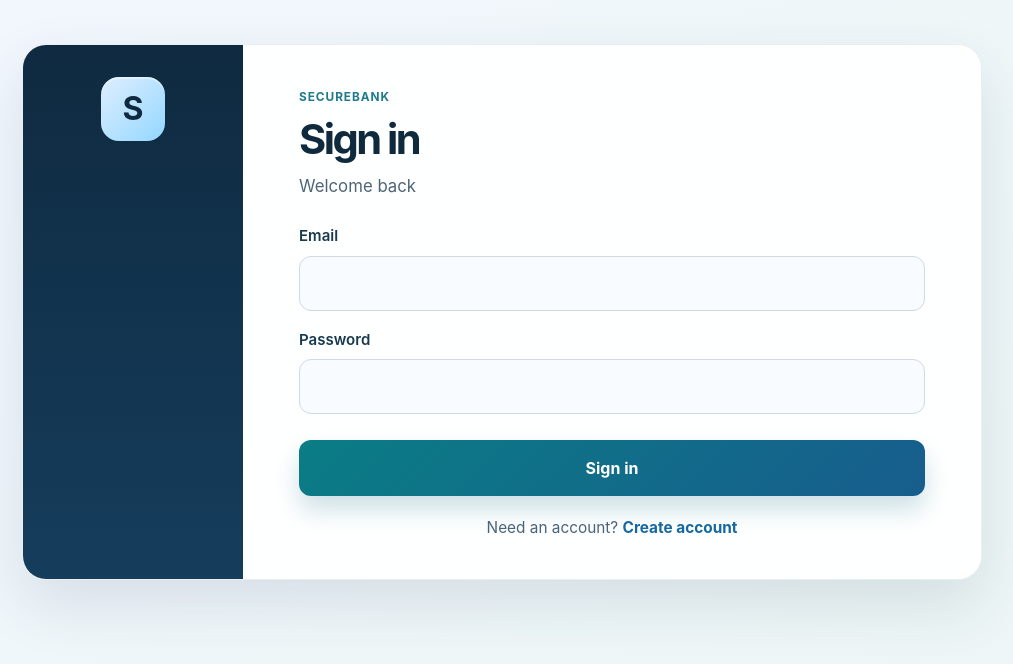
Test: Signup screen › shows an authentication error when sign in fails
Step 1. Type "jane.doe@example.com" into the field labelled "Email" → coordinates (612, 283), box [299,256,925,311]
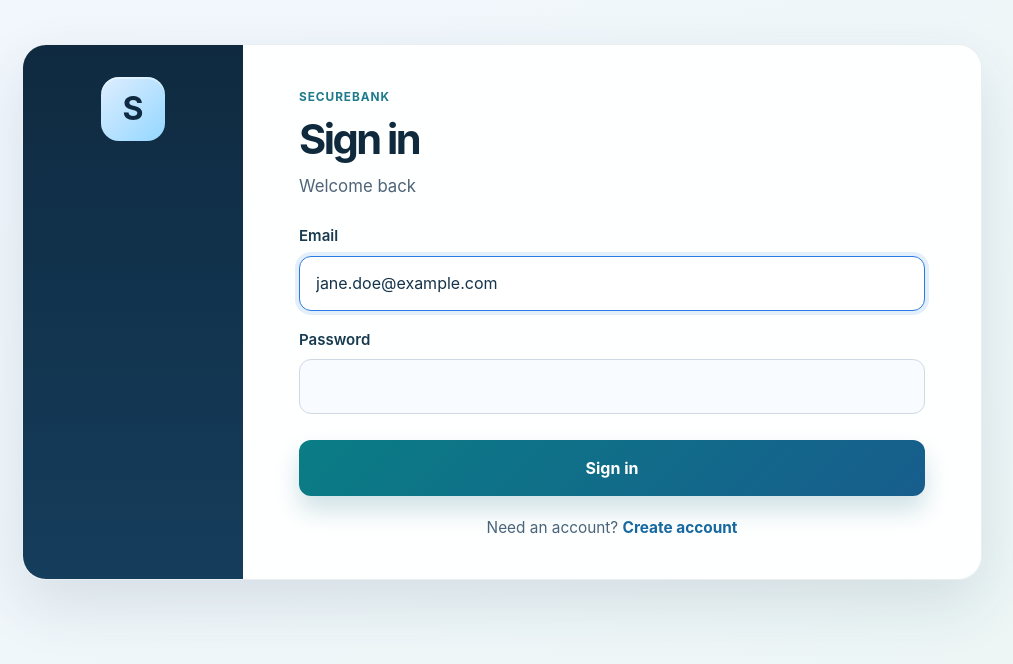
Step 2. Type "WrongPass!123" into the password field labelled "Password" → coordinates (612, 387), box [299,359,925,414]
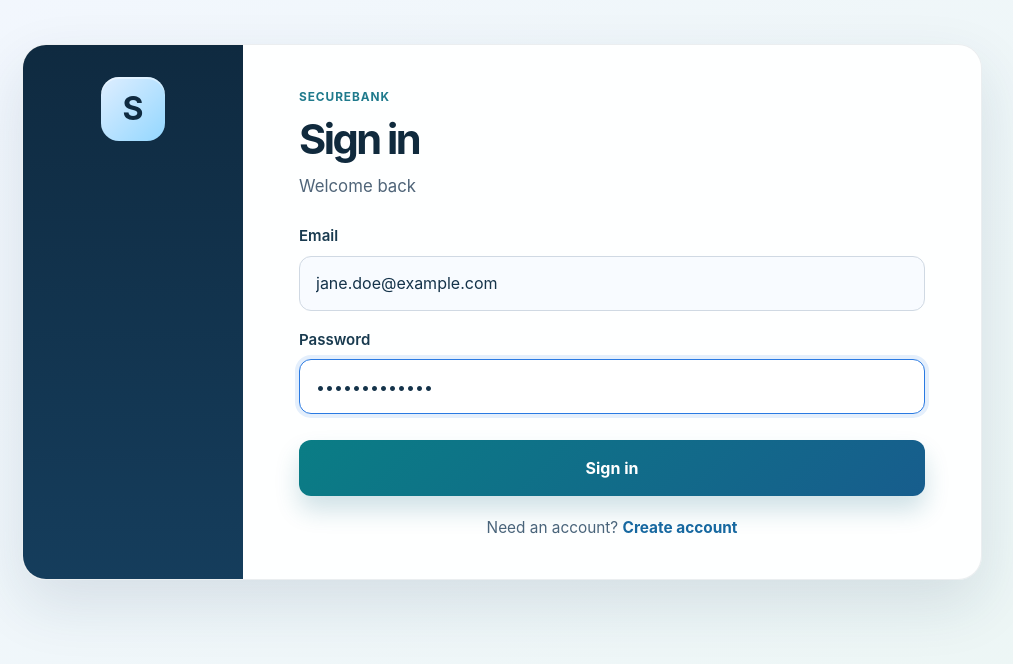
Step 3. Click the button "Sign in" → coordinates (612, 468), box [299,440,925,496]
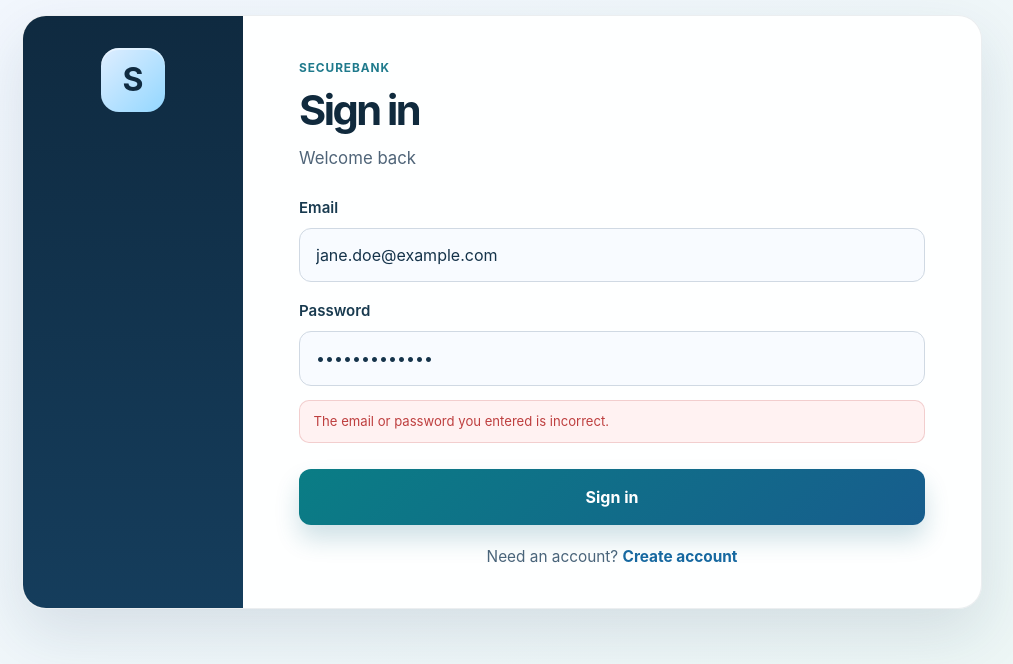
Check: the text "The email or password you entered is incorrect." is shown, box [299,400,925,443]
